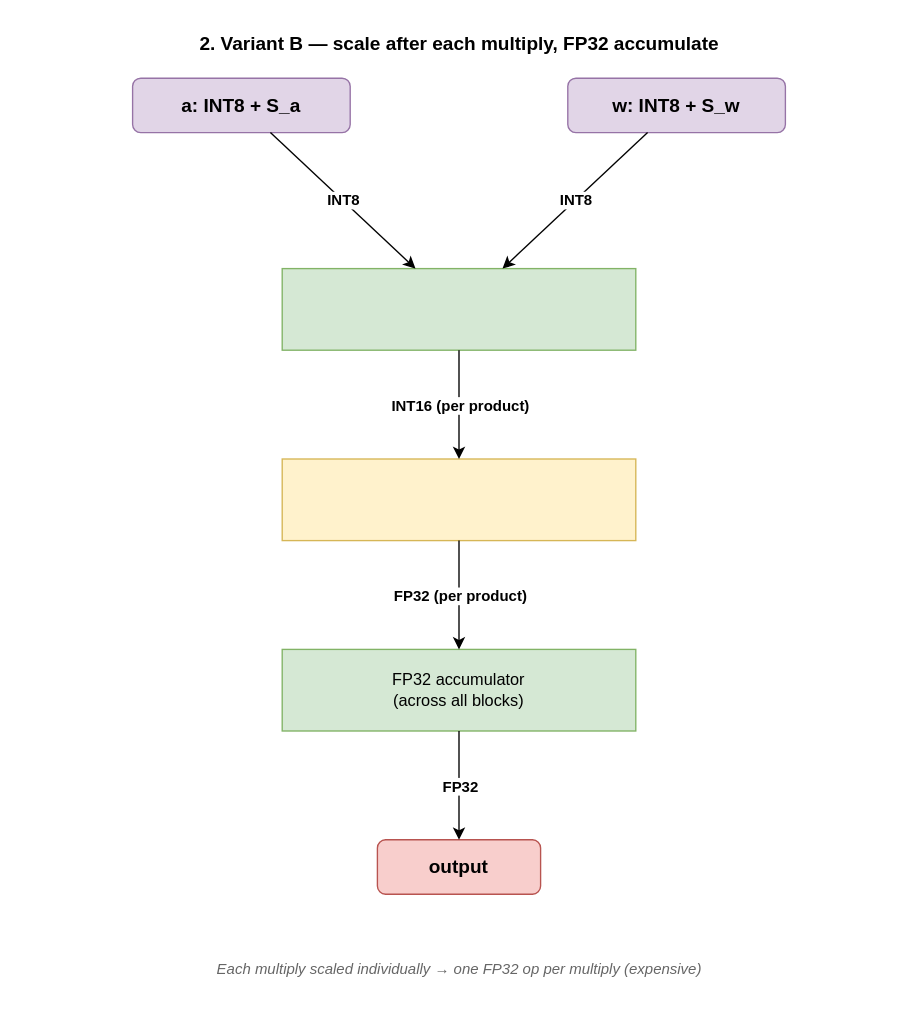
This 917x1012 diagram has some shape labels left out. The centre of each missing label's shape, as x and y in pixels:
INT8 × INT8 multiply: [458,308]
× (S_a × S_w) (scale each product): [458,499]
